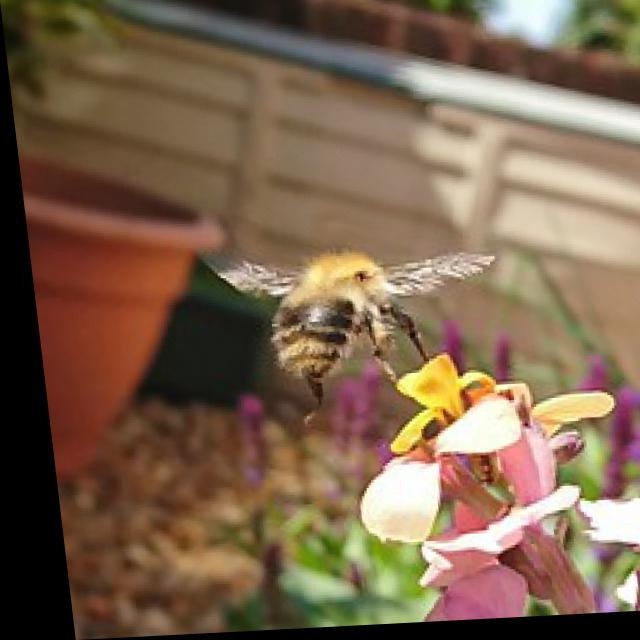Abeille: (174, 202, 510, 413)
